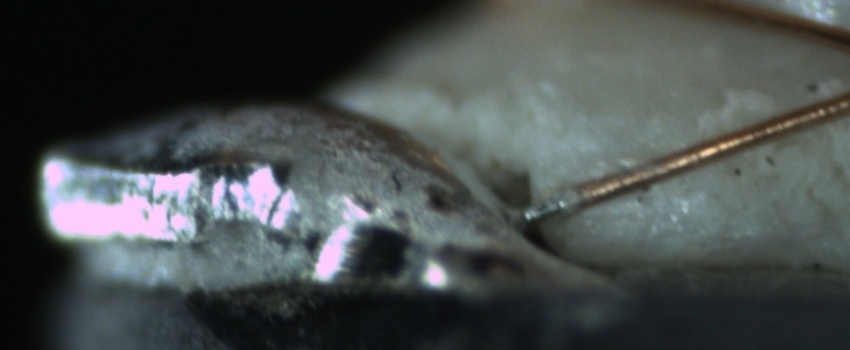TS: (520, 188, 581, 223)
TTCW: (515, 179, 584, 222)
